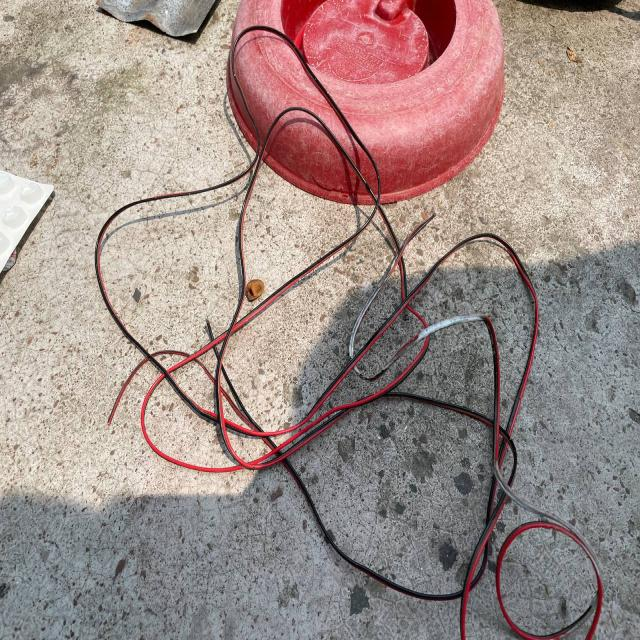Cable: (84, 172, 636, 640)
Medical Waste: (1, 158, 59, 300)
Metal: (95, 0, 215, 58)
Plastics: (222, 0, 543, 187)
